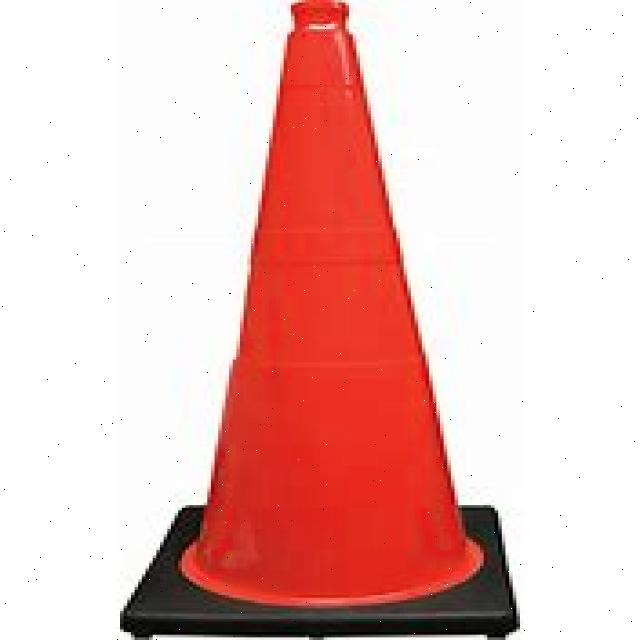traffic cone: (103, 1, 532, 640)
